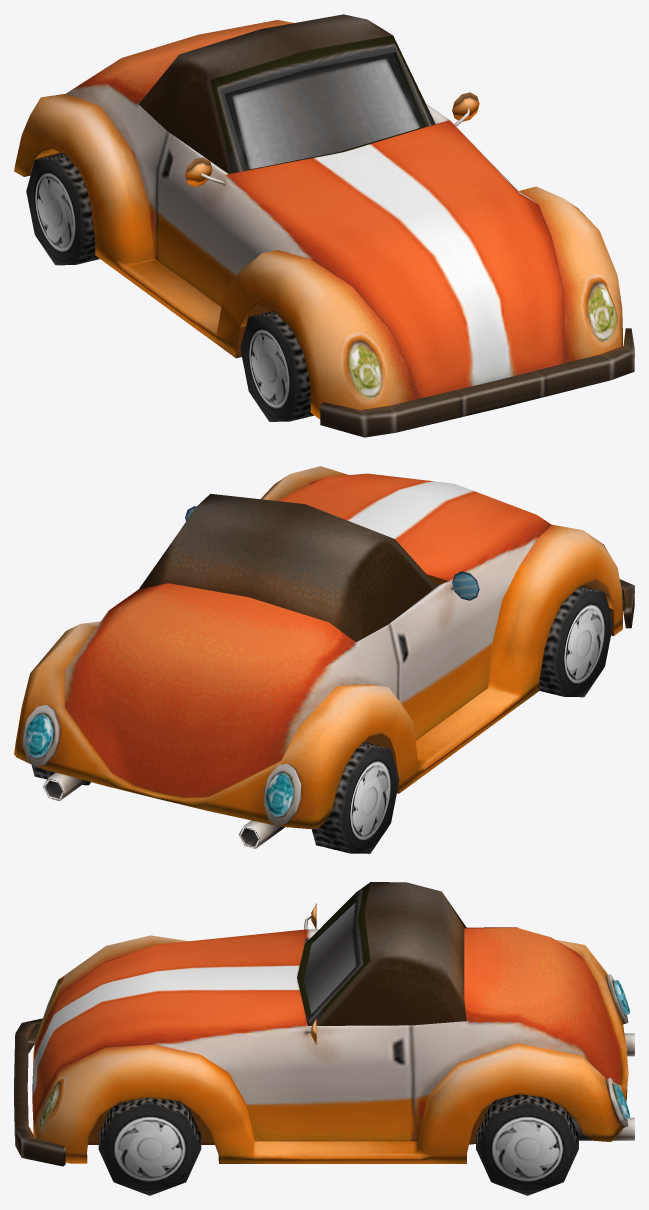
Rendered from npc_car_4.fbx.
The picture shows the model from 3 angles, top to bottom: view 1: azimuth 30°, elevation 25°; view 2: azimuth 150°, elevation 25°; view 3: azimuth 270°, elevation 25°; orthographic projection. The views are drawn at different scales.
Visible parts, largest first — view 1: npc_car_4; view 2: npc_car_4; view 3: npc_car_4.
Part boxes in pixels (x1,y1,x2,y2): npc_car_4: (14,14,634,437); npc_car_4: (14,466,634,853); npc_car_4: (14,882,634,1195).
Size of the model in its own units: 18.45 by 13.66 by 35.69.
